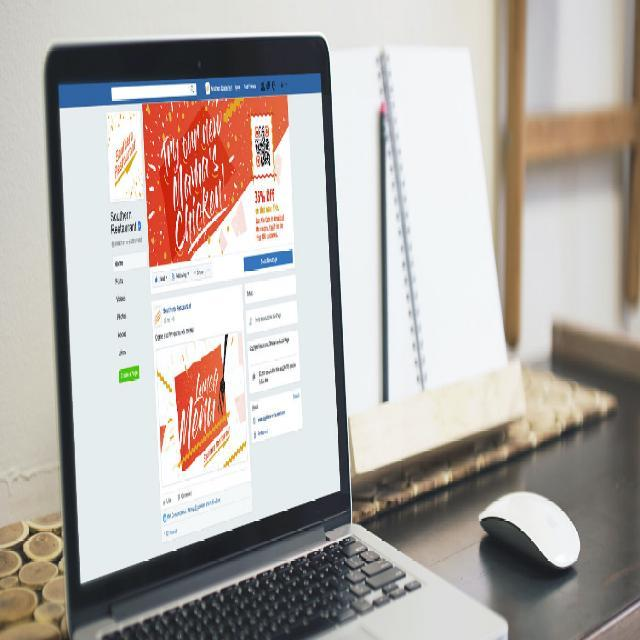qr_code: (254, 125, 271, 168)
